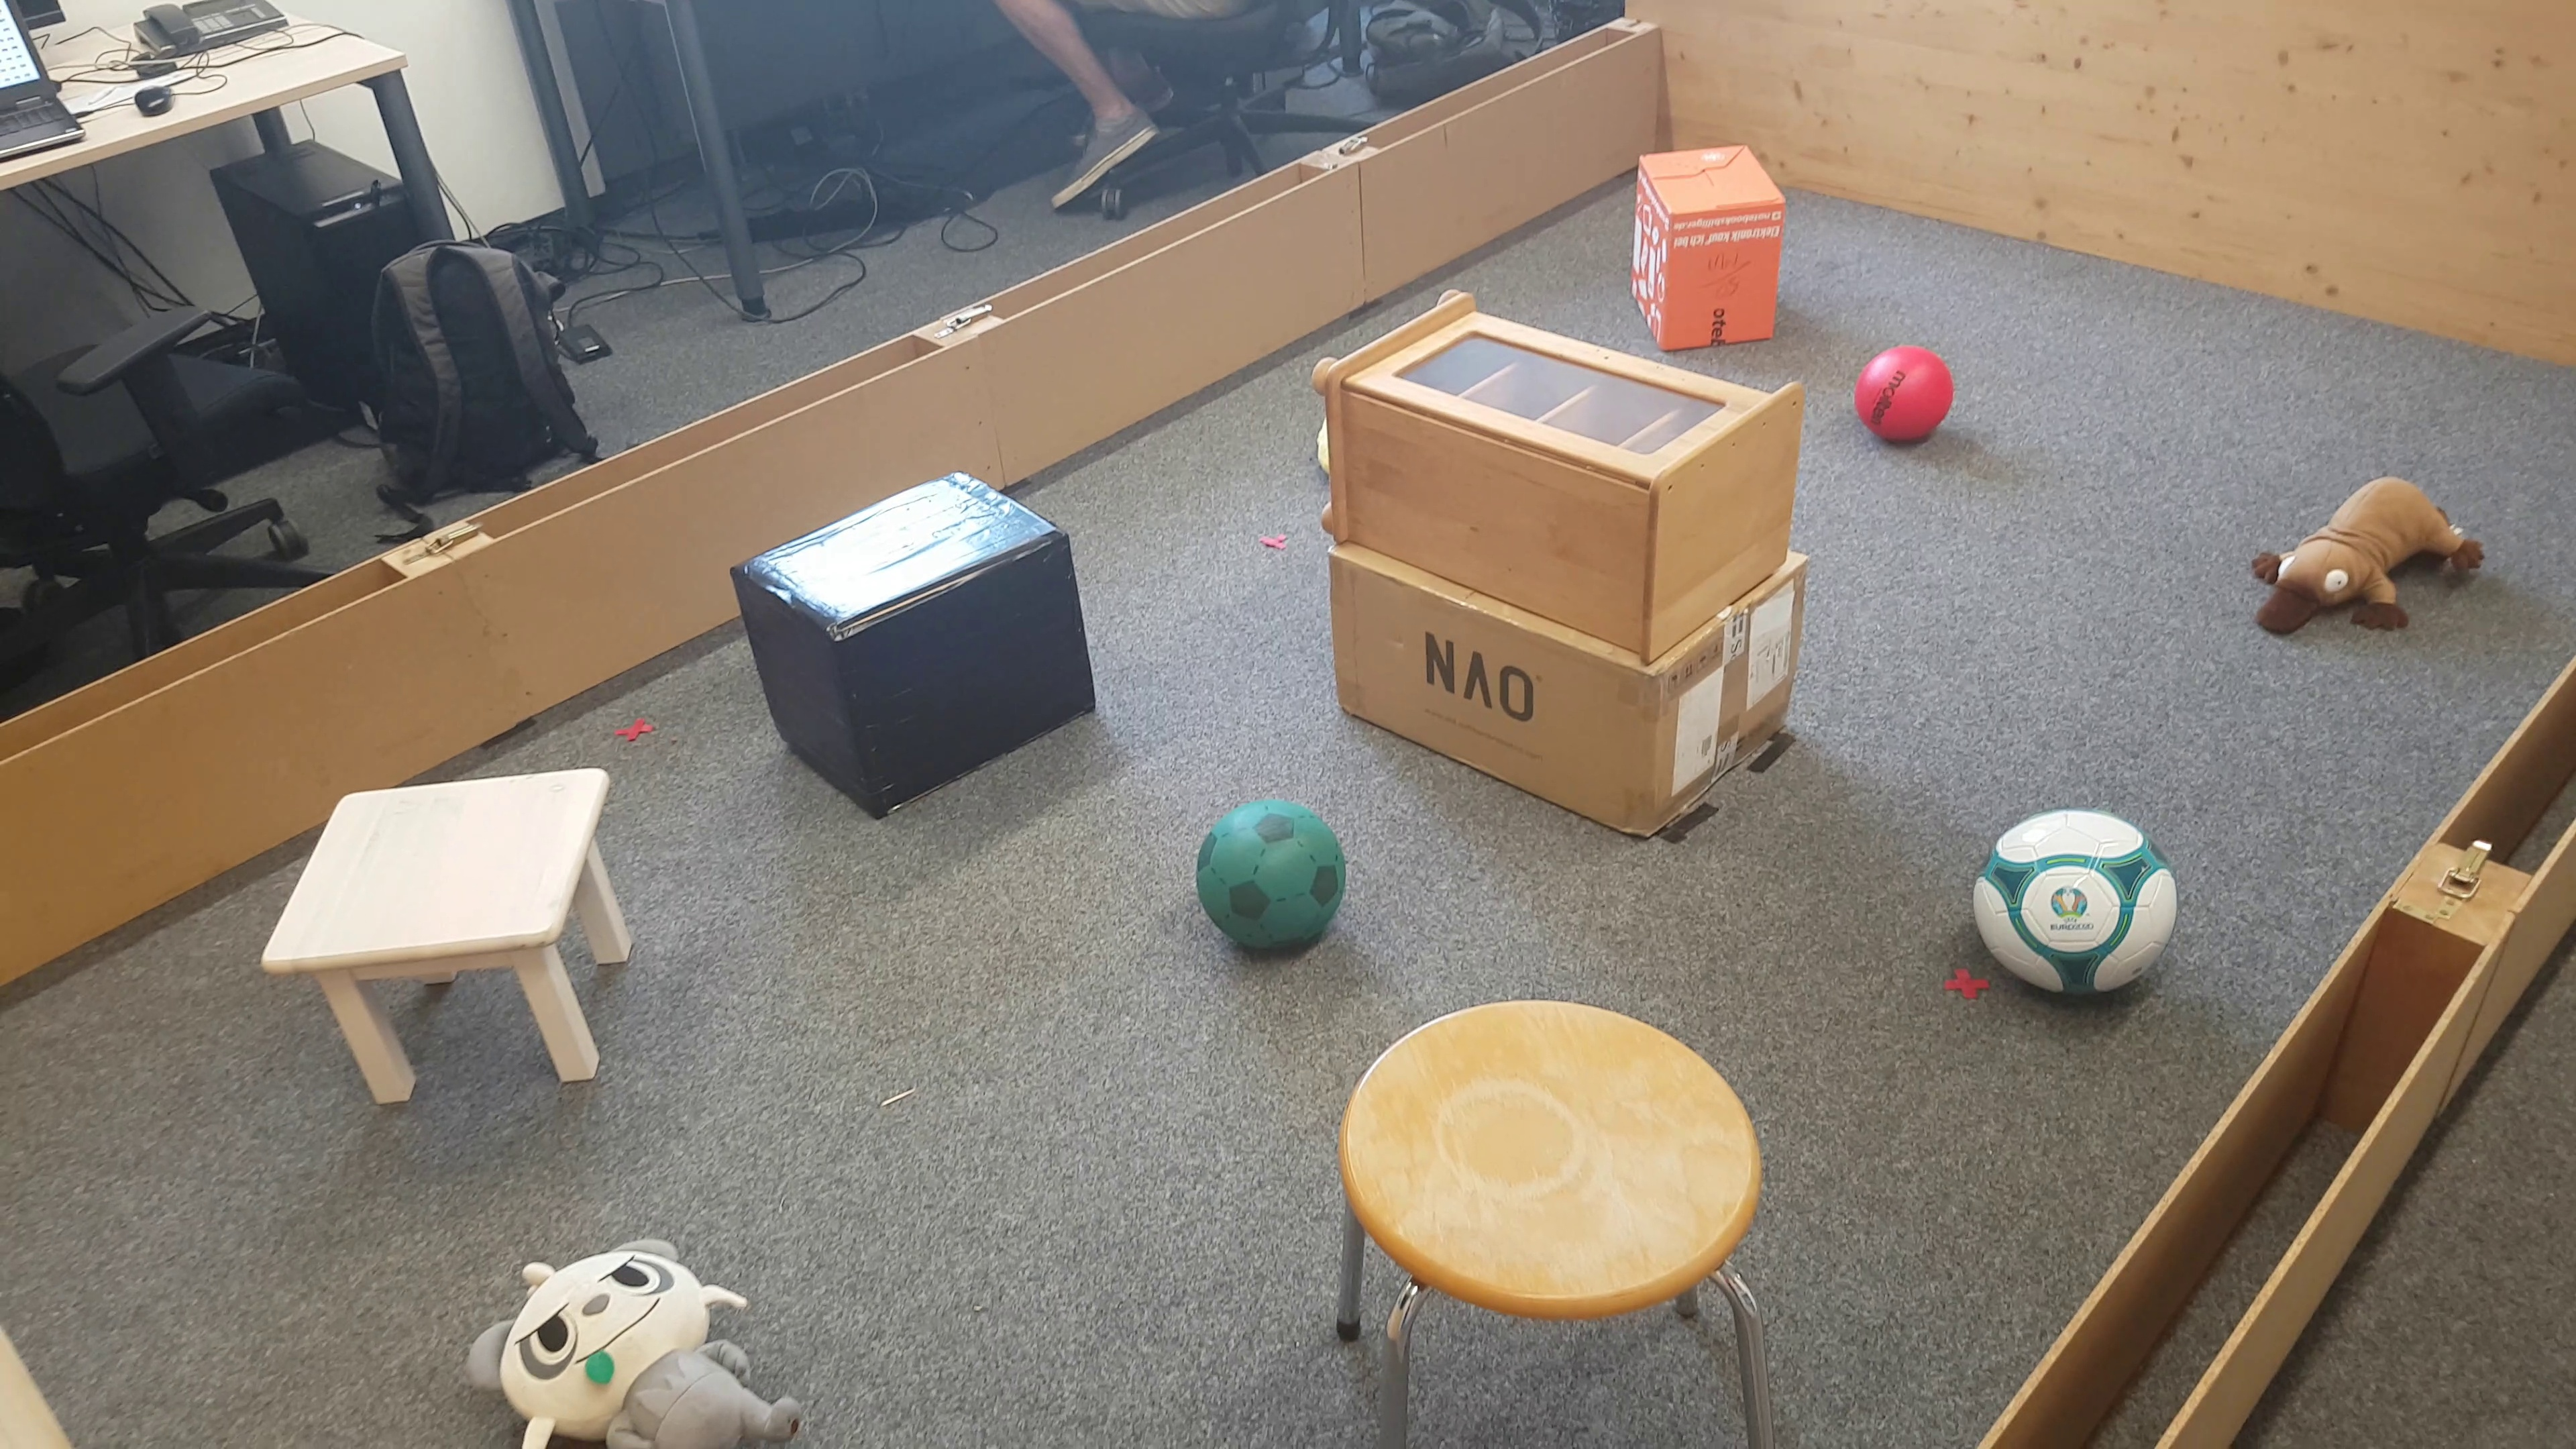grasp: (455, 1233, 805, 1449), (2249, 467, 2482, 655)
kick: (1974, 809, 2178, 1014), (1194, 801, 1350, 964), (1851, 340, 1957, 449)
push: (729, 469, 1104, 816), (1629, 142, 1790, 356)
